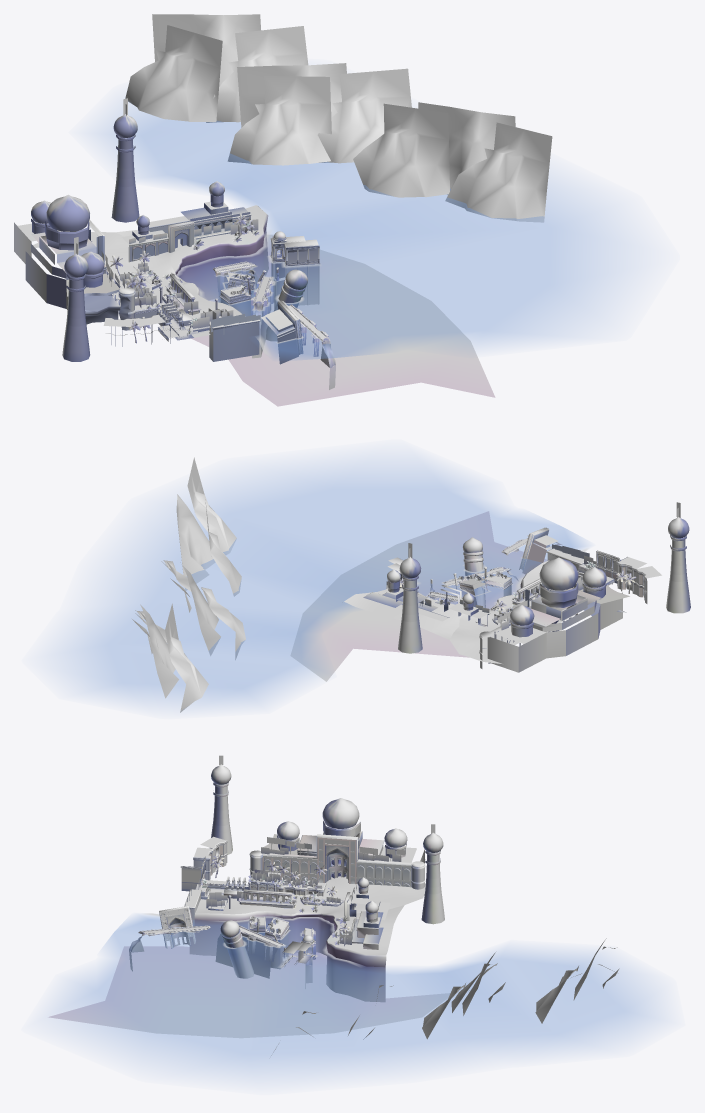
Rendered from 05Islands.gltf.
3 renders of one model, top to bottom at view 1: azimuth 30°, elevation 25°; view 2: azimuth 150°, elevation 25°; view 3: azimuth 270°, elevation 25°, orthographic. The views are drawn at different scales.
Parts seen in each view (by area): view 1: stg013_w12_Mesh_0000, stg010_p19_Mesh_0001, stg010_o12_Mesh_0039, stg010_o13_Mesh_0005, stg010_o12_Mesh_0032, stg010_o19_Mesh_0003, stg010_o19_Mesh_0010, stg010_p13_Mesh_0001, stg010_o19_Mesh_0007, stg010_o19_Mesh_0001, stg010_o19_Mesh_0002, stg010_o13_Mesh_0052 (+13 smaller); view 2: stg013_w12_Mesh_0000, stg010_o12_Mesh_0039, stg010_p19_Mesh_0001, stg010_o13_Mesh_0005, stg010_o12_Mesh_0032, stg010_o19_Mesh_0003, stg010_o19_Mesh_0010, stg010_o19_Mesh_0001, stg010_o19_Mesh_0000, stg010_o19_Mesh_0007, stg010_o13_Mesh_0047, stg010_o19_Mesh_0008 (+6 smaller); view 3: stg013_w12_Mesh_0000, stg010_o12_Mesh_0039, stg010_o13_Mesh_0005, stg010_o19_Mesh_0002, stg010_o19_Mesh_0007, stg010_o19_Mesh_0003, stg010_o19_Mesh_0010, stg010_o13_Mesh_0052, stg010_o19_Mesh_0008, stg010_o19_Mesh_0006, stg010_p19_Mesh_0001, stg010_p13_Mesh_0001 (+10 smaller).
Boxes of the visible parts, x1,y1,x2,y2 form: stg013_w12_Mesh_0000: (91, 101, 635, 359); stg010_p19_Mesh_0001: (125, 14, 552, 222); stg010_o12_Mesh_0039: (191, 234, 495, 406); stg010_o13_Mesh_0005: (17, 194, 328, 364); stg010_o12_Mesh_0032: (14, 222, 317, 361); stg010_o19_Mesh_0003: (31, 114, 325, 340); stg010_o19_Mesh_0010: (33, 232, 238, 337); stg010_p13_Mesh_0001: (109, 217, 260, 334); stg010_o19_Mesh_0007: (31, 184, 328, 341); stg010_o19_Mesh_0001: (62, 147, 139, 361); stg010_o19_Mesh_0002: (177, 228, 268, 300); stg010_o13_Mesh_0052: (104, 215, 329, 367); stg013_w12_Mesh_0000: (51, 456, 589, 709); stg010_o12_Mesh_0039: (290, 511, 547, 681); stg010_p19_Mesh_0001: (132, 457, 245, 712); stg010_o13_Mesh_0005: (363, 527, 661, 663); stg010_o12_Mesh_0032: (487, 554, 622, 672); stg010_o19_Mesh_0003: (399, 517, 689, 625); stg010_o19_Mesh_0010: (450, 565, 581, 663); stg010_o19_Mesh_0001: (398, 546, 690, 653); stg010_o19_Mesh_0000: (344, 590, 464, 639); stg010_o19_Mesh_0007: (400, 540, 687, 654); stg010_o13_Mesh_0047: (363, 548, 591, 621); stg010_o19_Mesh_0008: (402, 540, 686, 632); stg013_w12_Mesh_0000: (47, 914, 664, 1080); stg010_o12_Mesh_0039: (48, 946, 450, 1038); stg010_o13_Mesh_0005: (142, 831, 424, 988); stg010_o19_Mesh_0002: (189, 916, 385, 1002); stg010_o19_Mesh_0007: (140, 822, 442, 965); stg010_o19_Mesh_0003: (141, 764, 443, 944); stg010_o19_Mesh_0010: (196, 876, 425, 913); stg010_o13_Mesh_0052: (131, 845, 411, 978); stg010_o19_Mesh_0008: (161, 808, 440, 969); stg010_o19_Mesh_0006: (161, 782, 440, 944); stg010_p19_Mesh_0001: (271, 938, 619, 1055); stg010_p13_Mesh_0001: (185, 847, 401, 946).
Size of the model in its own units: 784 by 224 by 894.
